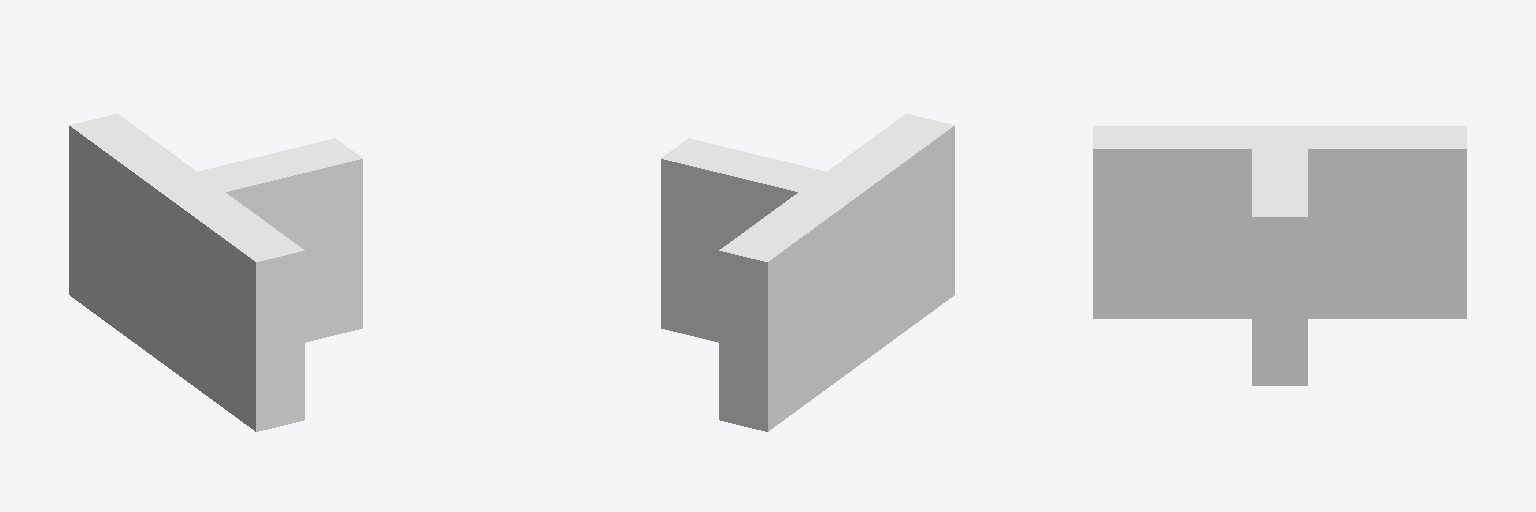
File: WallT.obj
3 renders of one model, left to right at view 1: azimuth 30°, elevation 25°; view 2: azimuth 150°, elevation 25°; view 3: azimuth 270°, elevation 25°, orthographic.
Parts seen in each view (by area): view 1: WallT; view 2: WallT; view 3: WallT.
Part boxes in pixels (x1,y1,x2,y2): WallT: (69, 113, 362, 431); WallT: (661, 113, 954, 431); WallT: (1093, 126, 1466, 385).
Bounding box in the file's own units: 46 × 40 × 80.